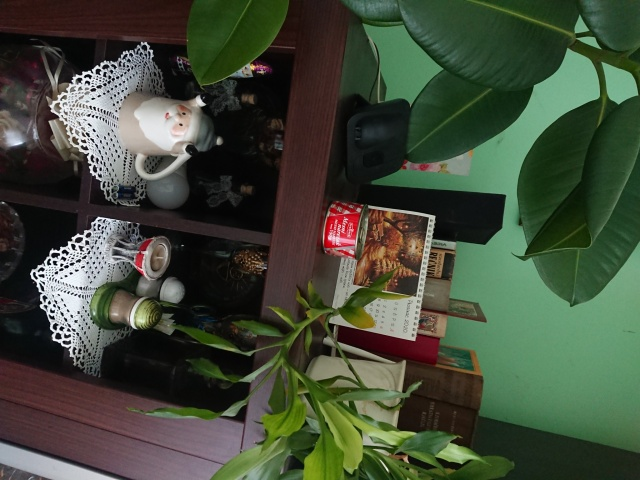Podravka Luncheon Meat 150g: (319, 198, 371, 262)
